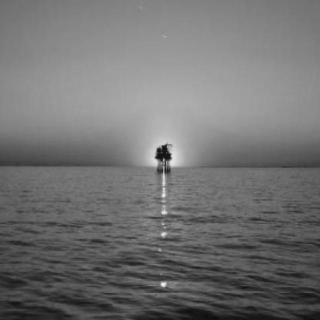other: (0, 121, 133, 165), (144, 134, 190, 172)
